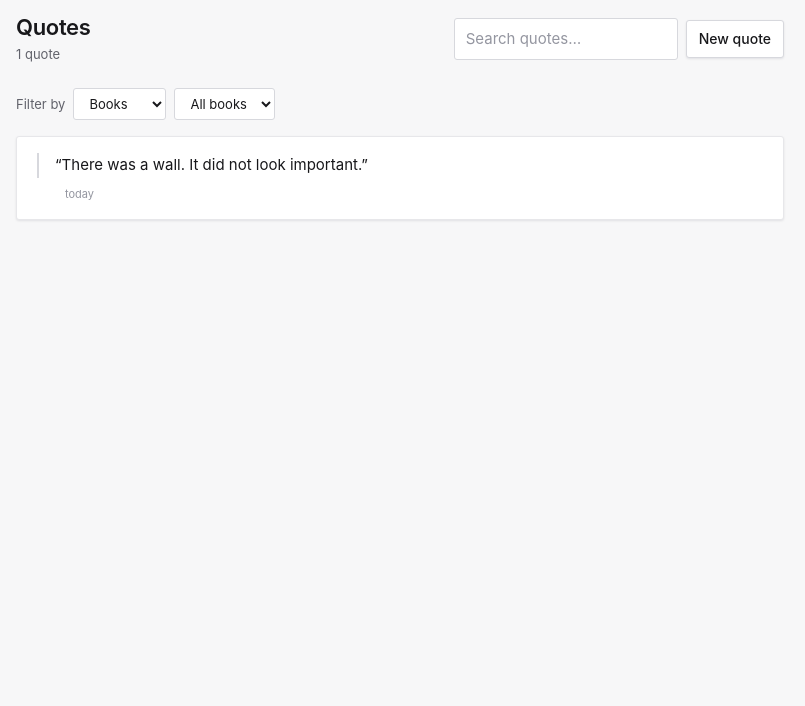
the Quotes screen › warns rather than asking, when Done cannot finish the quote
Click the button "New quote".
click(735, 39)  # box [686,20,784,58]
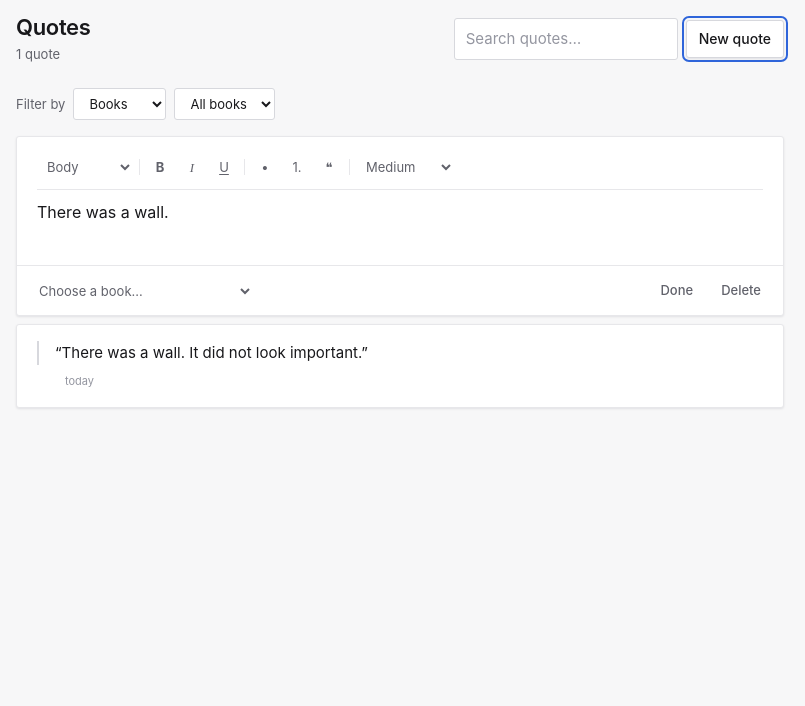
Click the button with test id "quote-done".
click(677, 291)  # box [650,274,703,307]
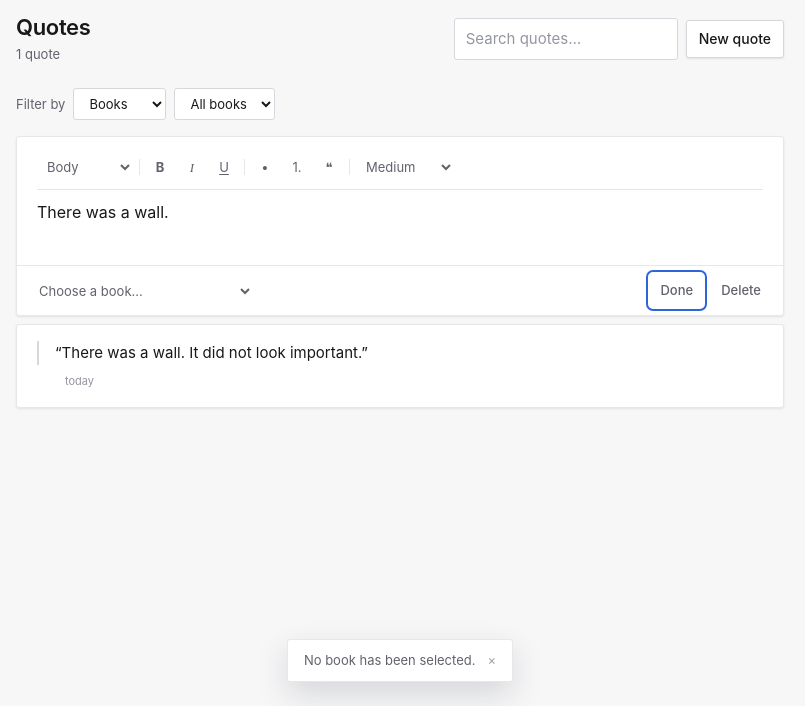
Result: the dropdown named "Book this quote is from" is shown at [29,277,253,305]
Result: the text "No book has been selected." is shown at [304,650,476,671]
